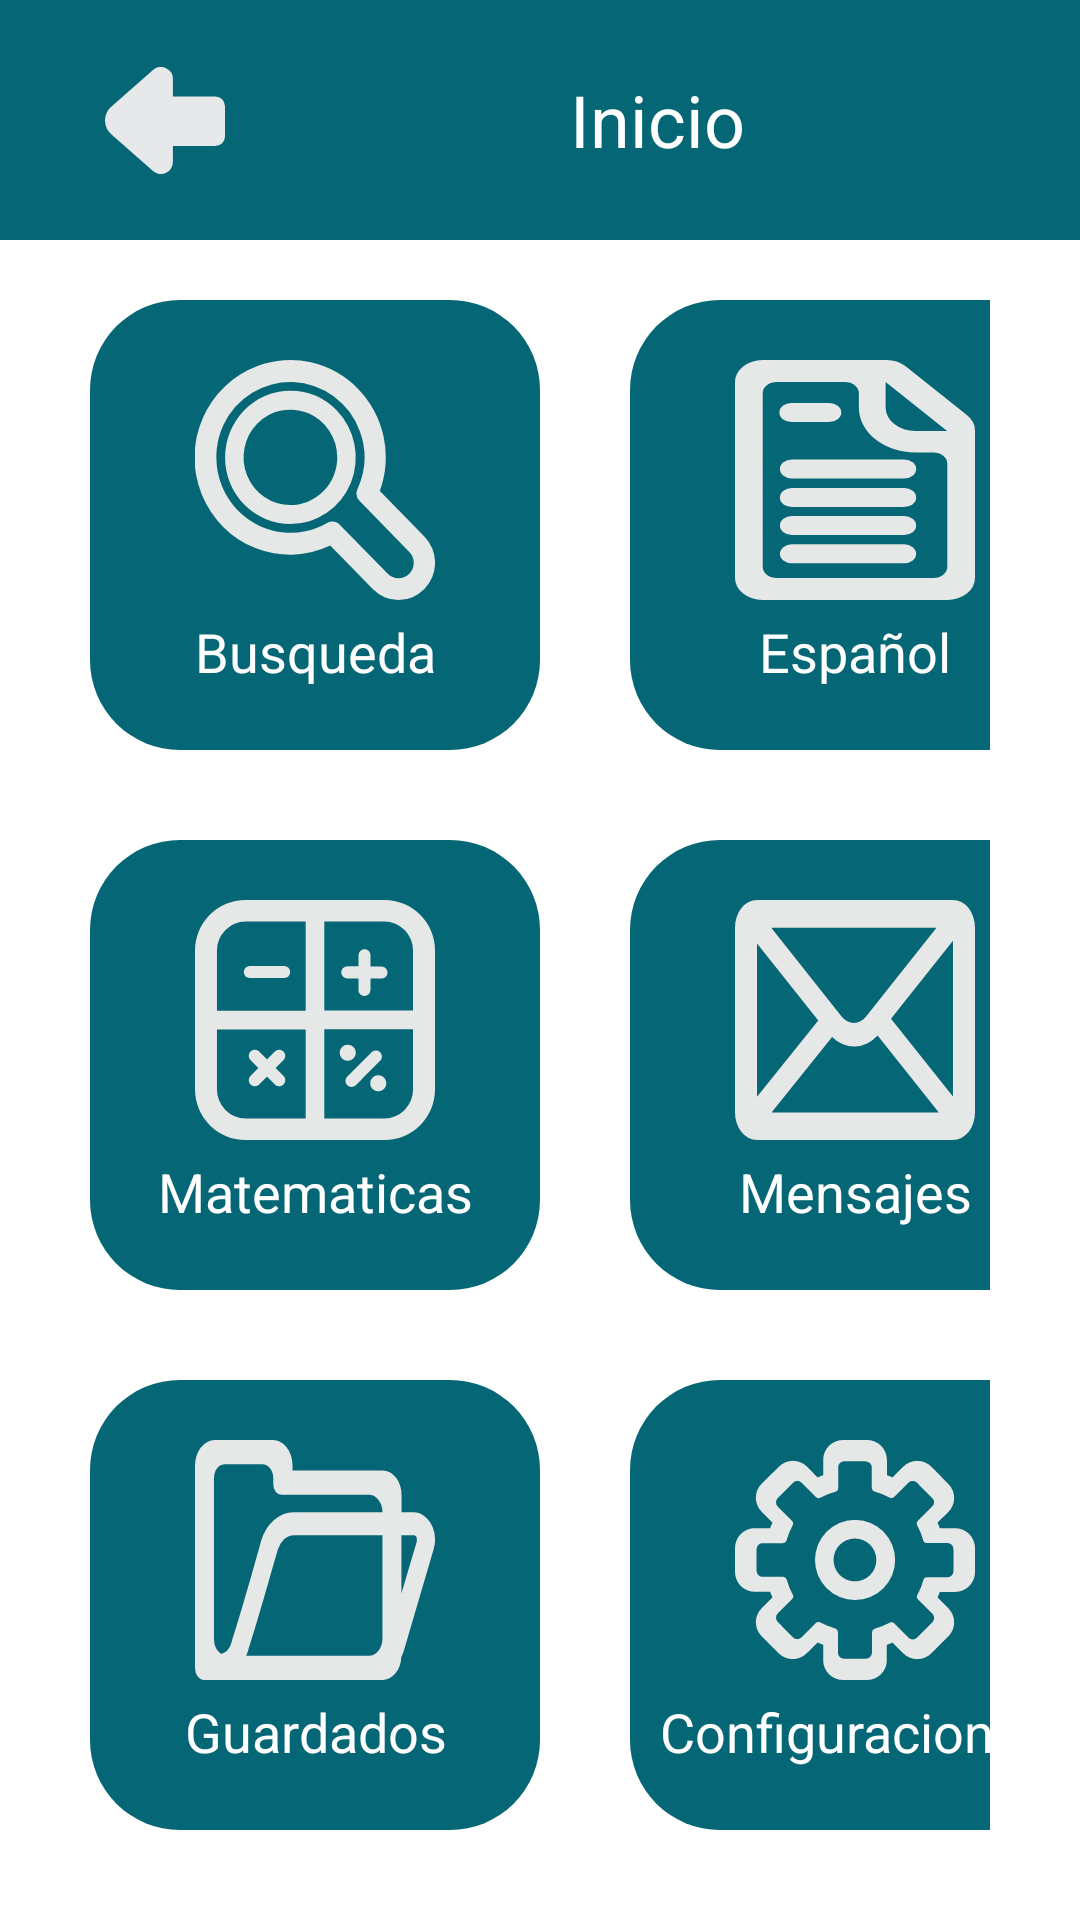

Icon click points for this 1080*1920 phone screenshot, format (x,y):
calculadora: (315,1020)
carpeta linea: (315,1560)
flechaatras: (165,120)
hoja: (855,480)
lupa: (315,480)
sobre: (855,1020)
tuerca: (855,1560)
